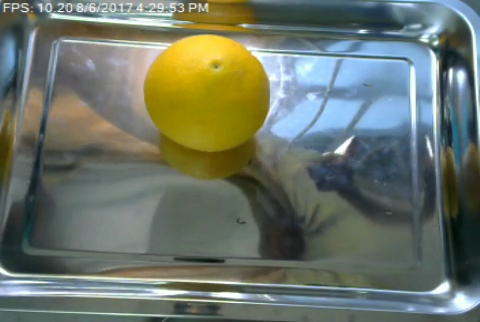Orange: (144, 33, 271, 152)
